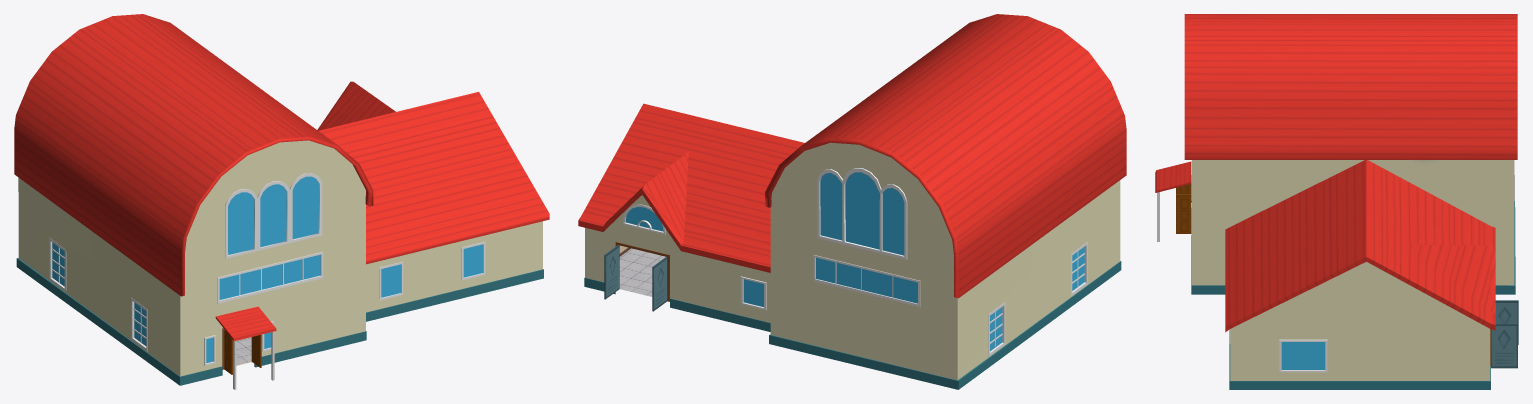
File: Lab_001.fbx
The picture shows the model from 3 angles, left to right: view 1: azimuth 30°, elevation 25°; view 2: azimuth 150°, elevation 25°; view 3: azimuth 270°, elevation 25°; orthographic projection.
Parts seen in each view (by area): view 1: Lab01, WindowsGlass_Lab001; view 2: Lab01, WindowsGlass_Lab001, Door5, Door4; view 3: Lab01, WindowsGlass_Lab001, Door4, Door2, Door5.
Boxes of the visible parts, x1=… form: Lab01: x1=14, y1=14, x2=549, y2=389; WindowsGlass_Lab001: x1=52, y1=176, x2=483, y2=362; Lab01: x1=578, y1=14, x2=1126, y2=389; WindowsGlass_Lab001: x1=625, y1=172, x2=1084, y2=350; Door5: x1=652, y1=257, x2=667, y2=311; Door4: x1=604, y1=245, x2=619, y2=299; Lab01: x1=1155, y1=14, x2=1517, y2=389; WindowsGlass_Lab001: x1=1281, y1=342, x2=1325, y2=369; Door4: x1=1491, y1=323, x2=1517, y2=368; Door2: x1=1176, y1=194, x2=1191, y2=233; Door5: x1=1495, y1=300, x2=1518, y2=344.
Bounding box in the file's own units: 142 × 79.15 × 115.
